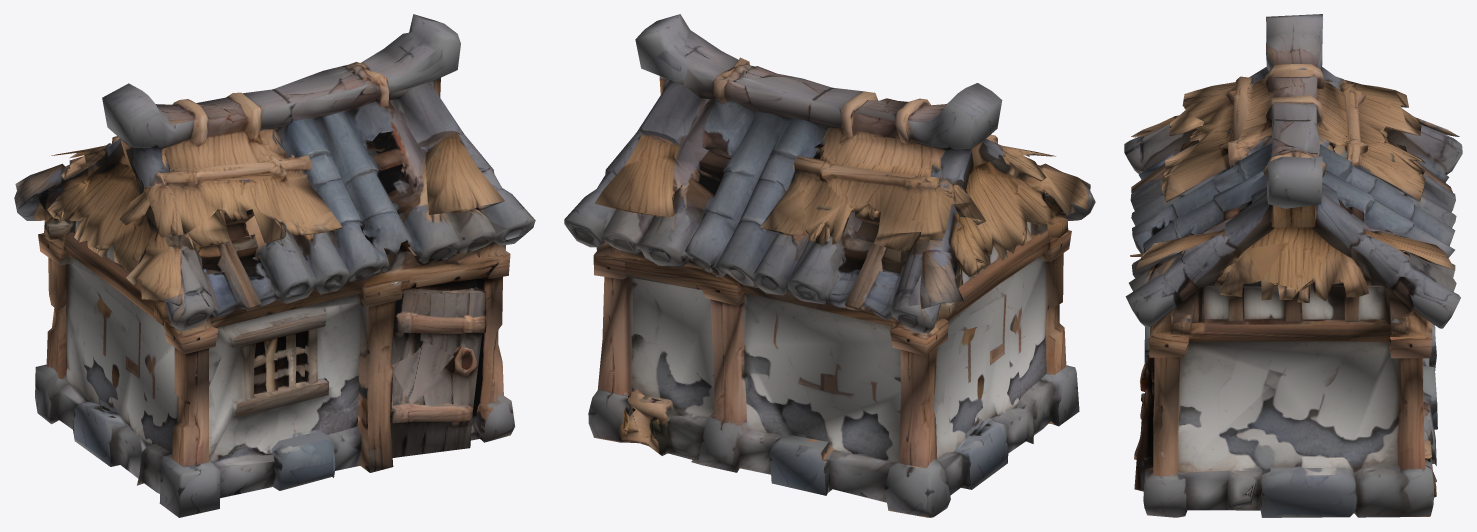
The model's file is home_house.fbx.
3 renders of one model, left to right at view 1: azimuth 30°, elevation 25°; view 2: azimuth 150°, elevation 25°; view 3: azimuth 270°, elevation 25°, orthographic. The views are drawn at different scales.
Visible parts, largest first — view 1: 1_output_1794025177199490_KFCaDltNk; view 2: 1_output_1794025177199490_KFCaDltNk; view 3: 1_output_1794025177199490_KFCaDltNk.
Part boxes in pixels (box(x1,y1,x2,y2)): 1_output_1794025177199490_KFCaDltNk: box(14, 14, 535, 517); 1_output_1794025177199490_KFCaDltNk: box(564, 14, 1095, 517); 1_output_1794025177199490_KFCaDltNk: box(1124, 14, 1462, 517).
Bounding box in the file's own units: 5.58 × 5 × 4.29.
1 material, 1 textured.
